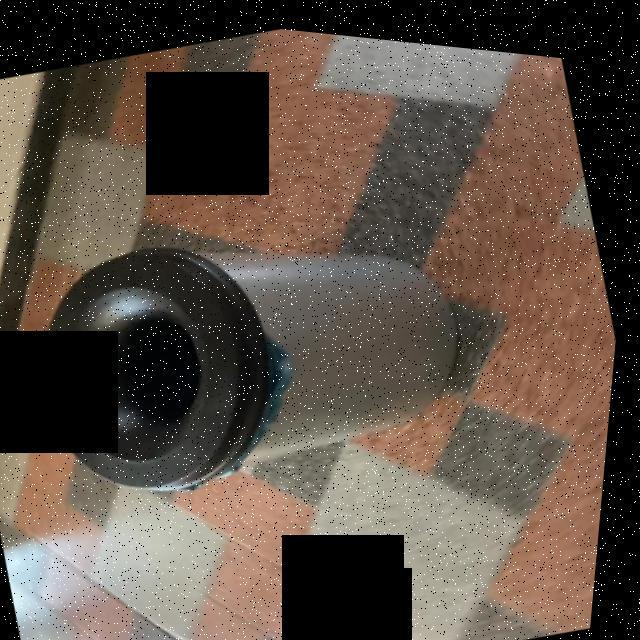bin: (0, 123, 521, 567)
